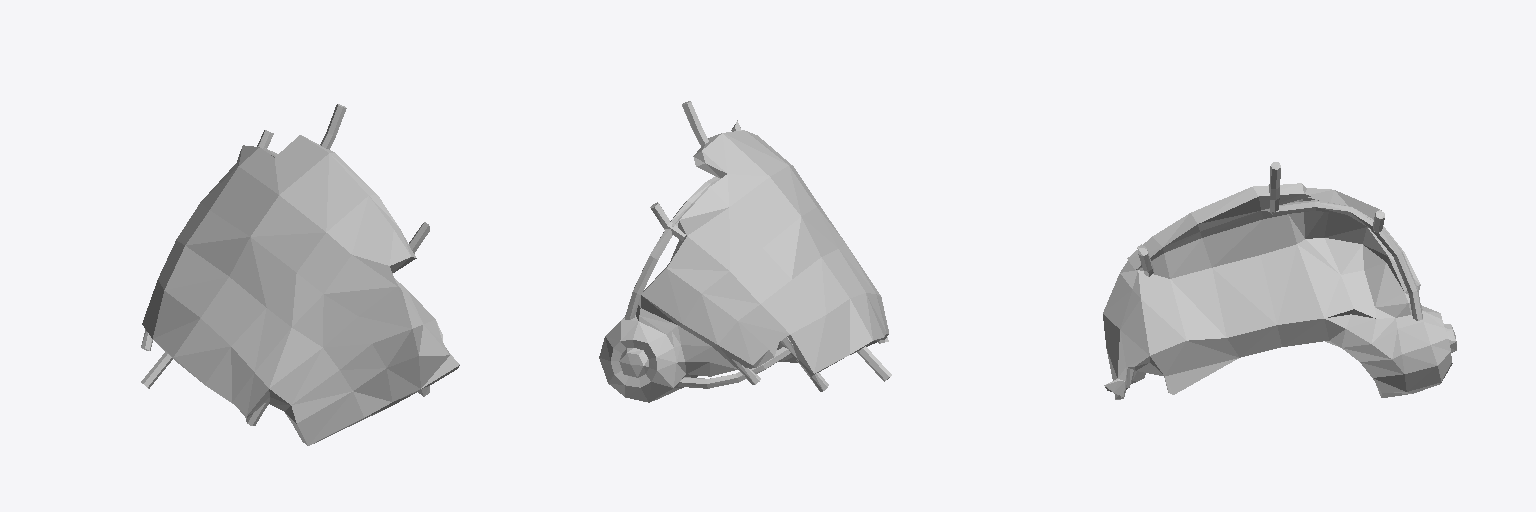
The model's file is PALeftPauldronFixed.obj.
3 renders of one model, left to right at view 1: azimuth 30°, elevation 25°; view 2: azimuth 150°, elevation 25°; view 3: azimuth 270°, elevation 25°, orthographic.
Parts seen in each view (by area): view 1: Raider_LArm:0; view 2: Raider_LArm:0; view 3: Raider_LArm:0.
Part boxes in pixels (bbox=[...]): Raider_LArm:0: bbox=[141, 104, 459, 445]; Raider_LArm:0: bbox=[599, 101, 891, 402]; Raider_LArm:0: bbox=[1103, 162, 1456, 399].
Size of the model in its own units: 15.97 by 17.18 by 20.72.